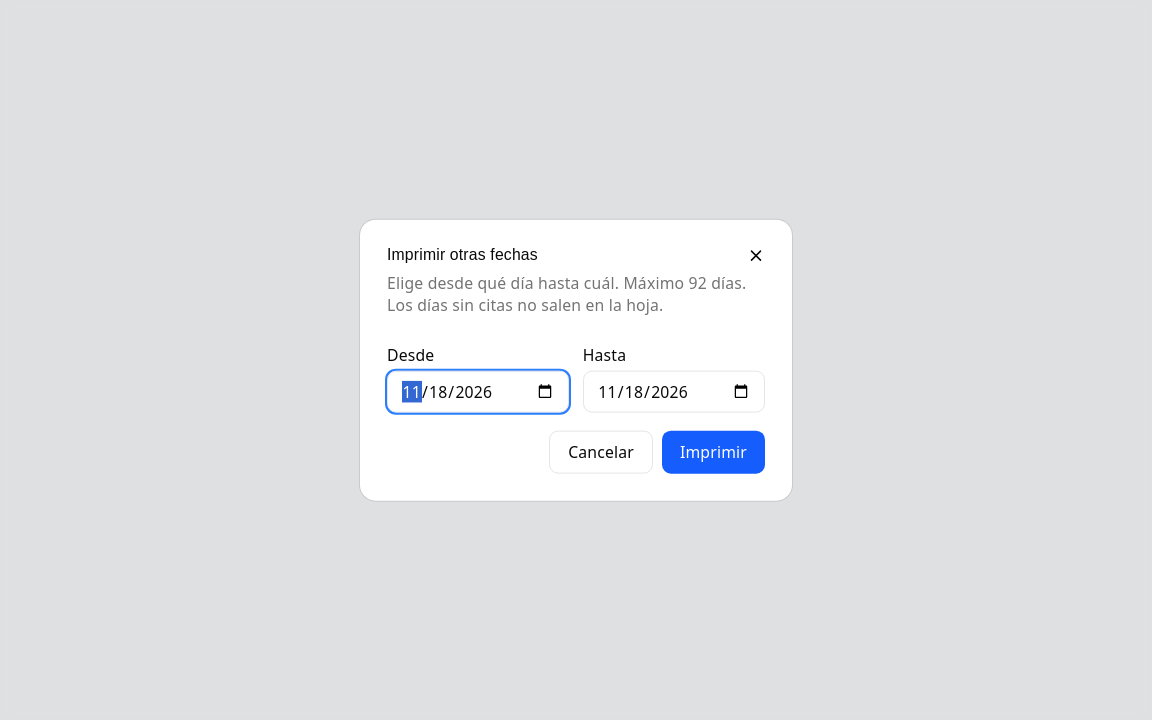
Scenario: Imprimir otras fechas › no pide nada si el rango pasa de 92 días y lo explica
Type "2027-03-01" into the date field labelled "Hasta".
click(674, 392); type("2027-03-01")  # box x1=583 y1=370 x2=765 y2=413
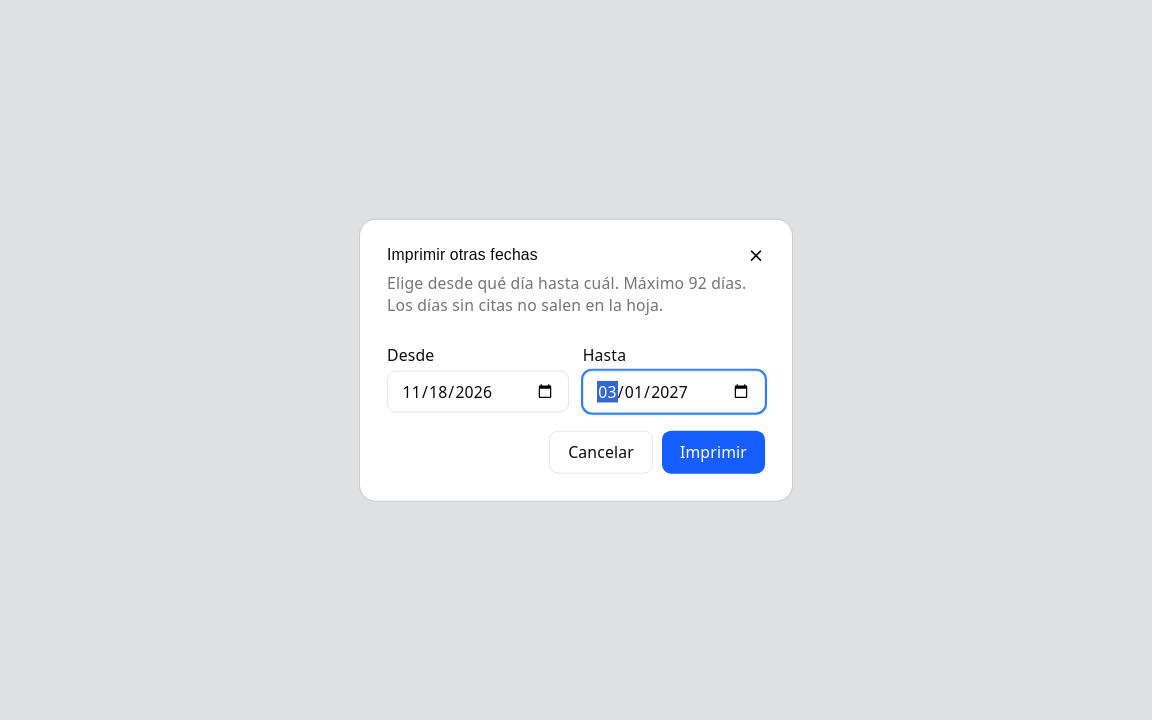
Click the button "Imprimir".
click(713, 452)  # box x1=662 y1=431 x2=765 y2=473
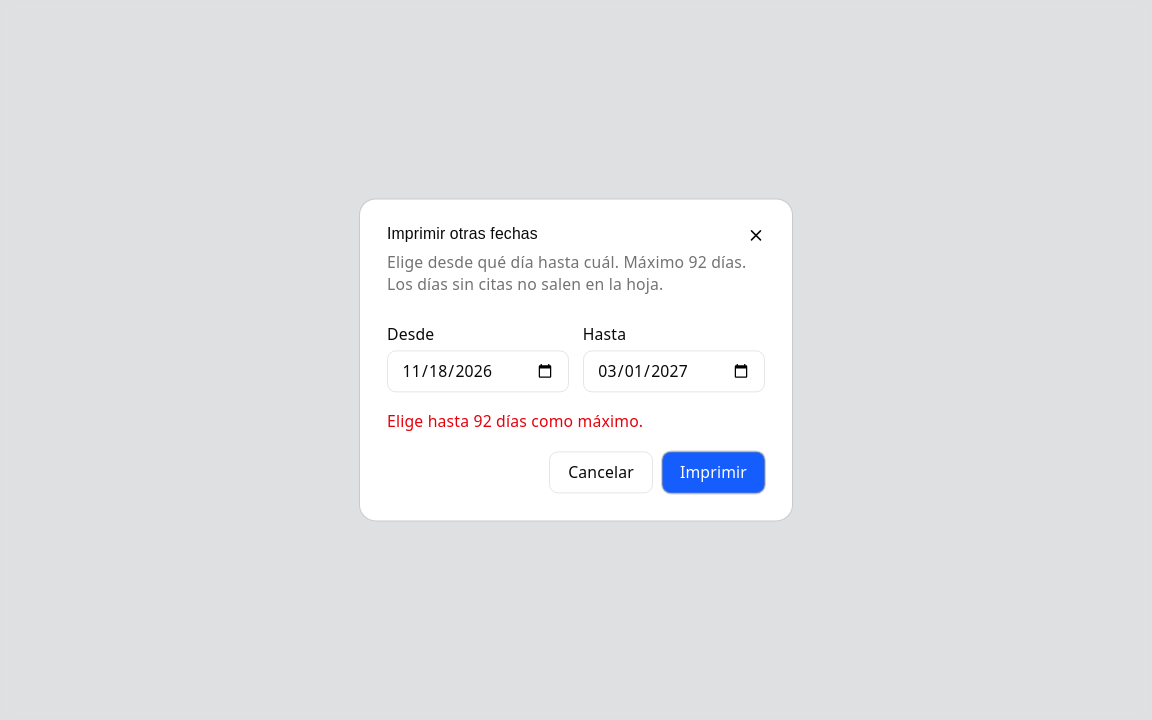
Now the message reads "Elige hasta 92 días como máximo.", box x1=387 y1=411 x2=643 y2=433
